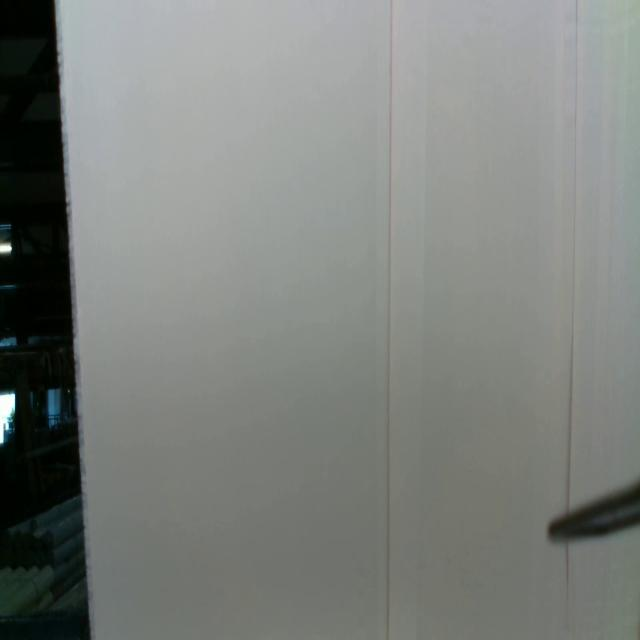crease: (565, 0, 580, 507), (384, 0, 395, 640), (564, 543, 571, 628)
